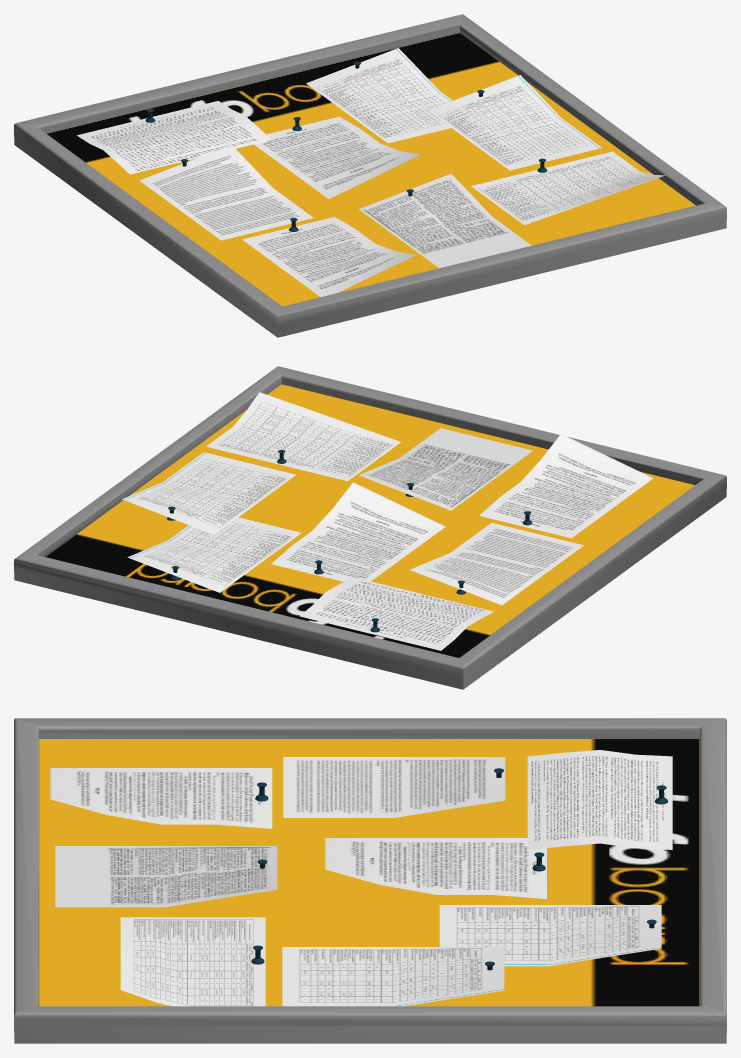
The model's file is Poster05_2.FBX.
3 renders of one model, top to bottom at view 1: azimuth 30°, elevation 25°; view 2: azimuth 150°, elevation 25°; view 3: azimuth 270°, elevation 25°, orthographic. The views are drawn at different scales.
Parts seen in each view (by area): view 1: Poster05_2; view 2: Poster05_2; view 3: Poster05_2.
Part boxes in pixels (box(x1,y1,x2,y2)): Poster05_2: box(14, 14, 726, 337); Poster05_2: box(14, 366, 726, 689); Poster05_2: box(14, 718, 726, 1043).
Size of the model in its own units: 203 by 15.46 by 206.
